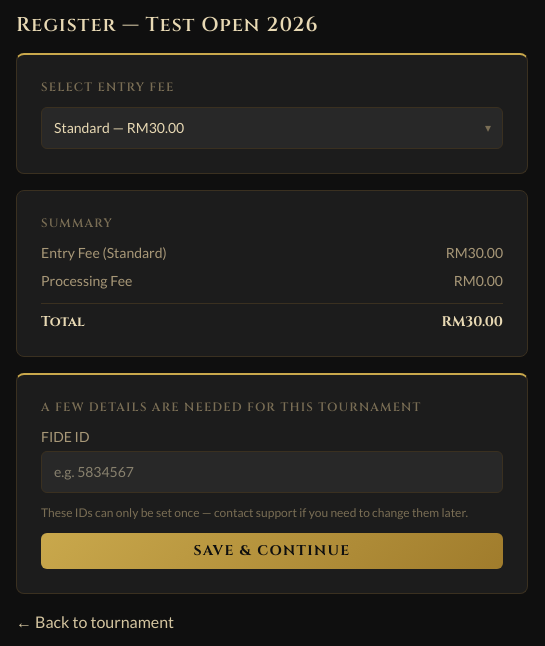
Test: RegisterForm › eligibility — rating › ignores a national rating on a FIDE-rated tournament
The width and height of the screenshot is (545, 646).
Select "Masters — RM20.00 (Ineligible)" in the dropdown: point(272, 128) [41,107,503,149]
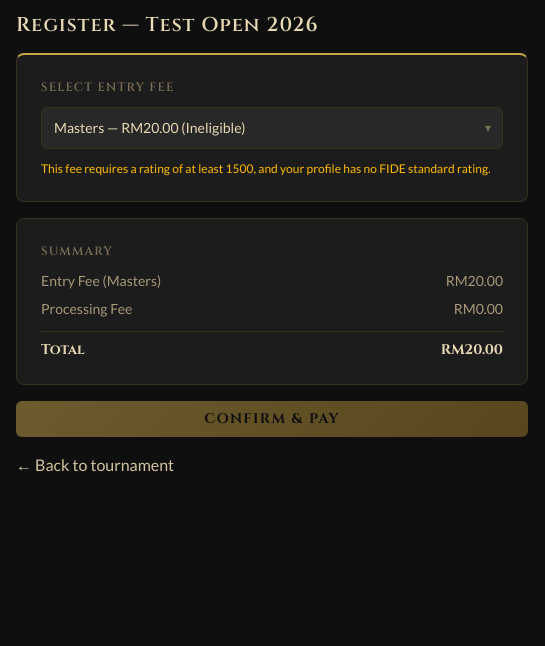
Expected: the text "no FIDE standard rating" is shown, [41,161,491,176]
